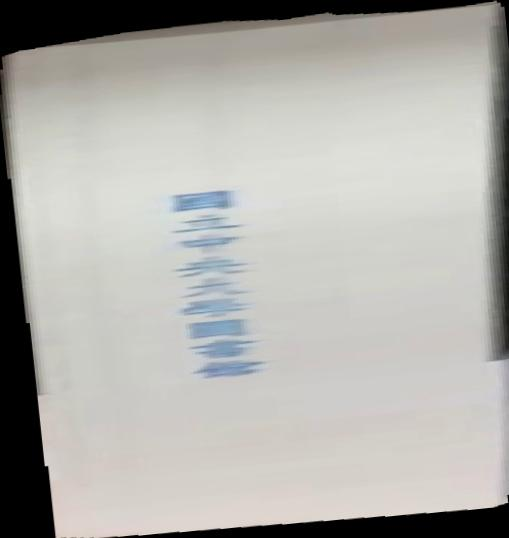backward: (1, 1, 509, 538)
